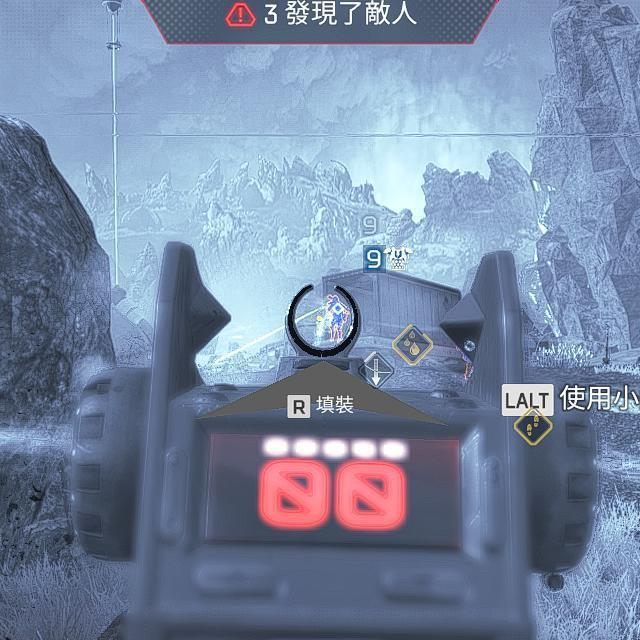avatar: (326, 294, 351, 344)
object: (330, 301, 346, 317)
